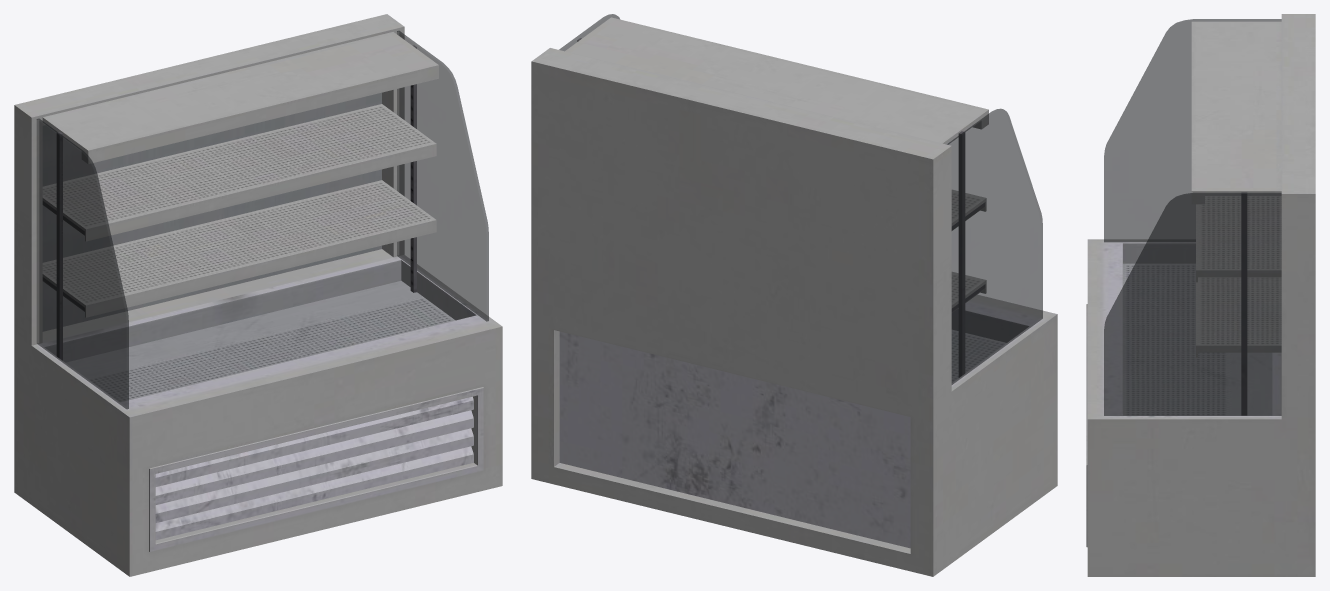
Rendered from SM_Counter_Cold_01.glb.
3 renders of one model, left to right at view 1: azimuth 30°, elevation 25°; view 2: azimuth 150°, elevation 25°; view 3: azimuth 270°, elevation 25°, orthographic. The views are drawn at different scales.
Visible parts, largest first — view 1: SM_Counter_Cold_01; view 2: SM_Counter_Cold_01; view 3: SM_Counter_Cold_01.
Part boxes in pixels (x1=…): SM_Counter_Cold_01: x1=14, y1=14, x2=502, y2=576; SM_Counter_Cold_01: x1=531, y1=14, x2=1057, y2=576; SM_Counter_Cold_01: x1=1086, y1=14, x2=1315, y2=576.
Size of the model in its own units: 1.5 by 1.49 by 0.8093.
Materials: 2 (2 with a texture image).
